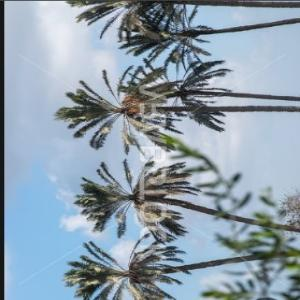palm tree: (62, 232, 192, 299)
